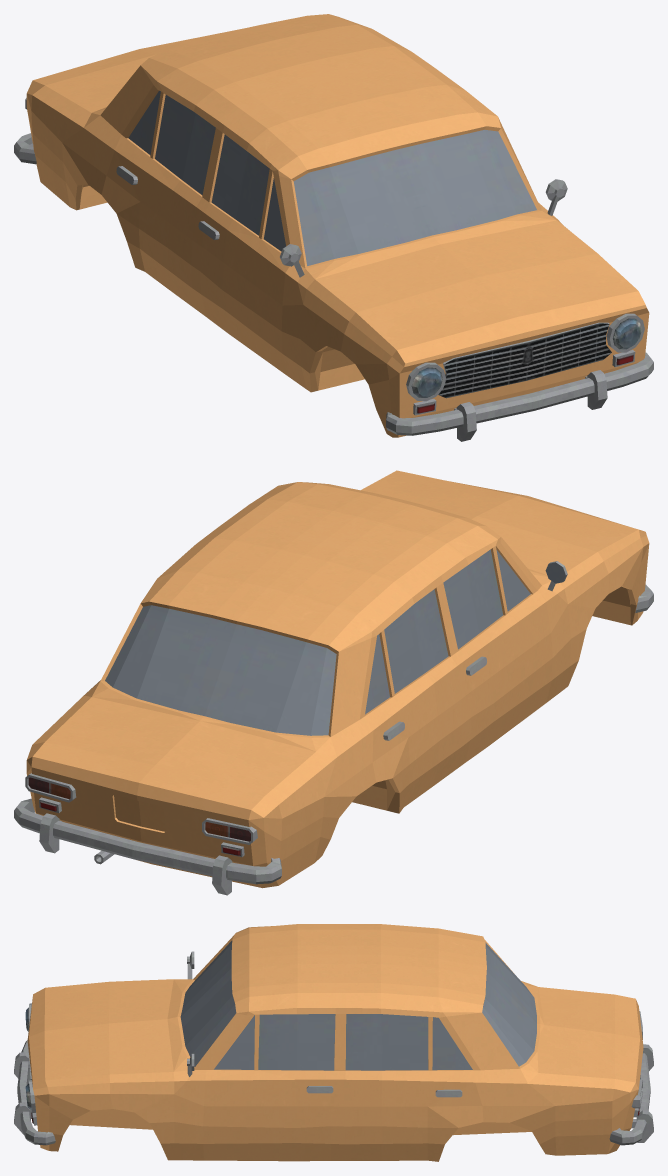
The model's file is vaz-2101.fbx.
3 renders of one model, top to bottom at view 1: azimuth 30°, elevation 25°; view 2: azimuth 150°, elevation 25°; view 3: azimuth 270°, elevation 25°, orthographic. The views are drawn at different scales.
Visible parts, largest first — view 1: Body, radiator, bumber_front, front_lights, Mirrors; view 2: Body, bumber_rear, rear_lights; view 3: Body, bumber_rear, bumber_front, front_lights.
Part boxes in pixels (x1,y1,x2,y2): Body: [26, 14, 649, 437]; radiator: [438, 322, 611, 398]; bumber_front: [386, 352, 653, 441]; front_lights: [406, 313, 644, 415]; Mirrors: [280, 179, 567, 277]; Body: [26, 470, 649, 888]; bumber_rear: [14, 798, 281, 895]; rear_lights: [25, 773, 257, 857]; Body: [27, 924, 643, 1161]; bumber_rear: [609, 1044, 653, 1145]; bumber_front: [14, 1040, 55, 1145]; front_lights: [25, 1003, 37, 1125].
Bounding box in the file's own units: 83.79 × 302 × 123.
Materials: 1 (1 with a texture image).
